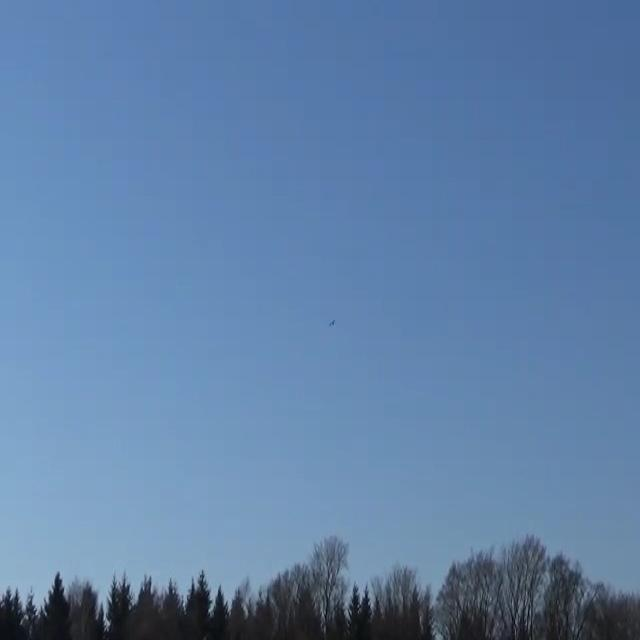bird: (326, 318, 337, 328)
